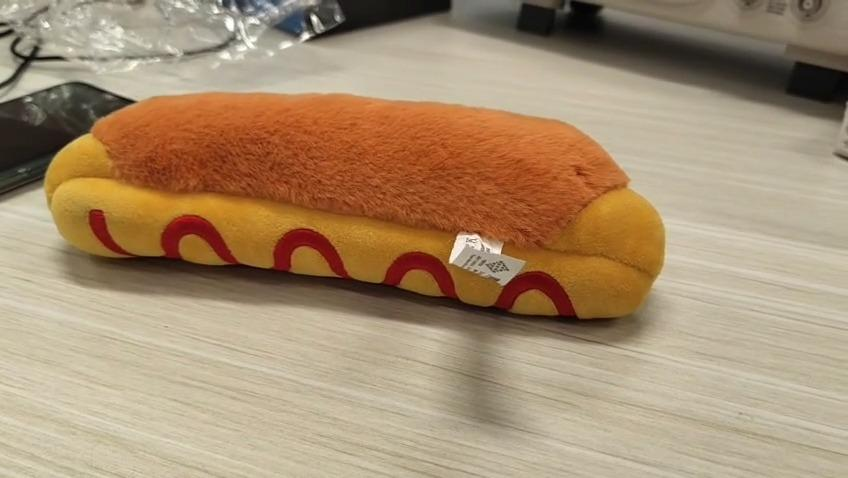hotdog: (40, 91, 665, 324)
